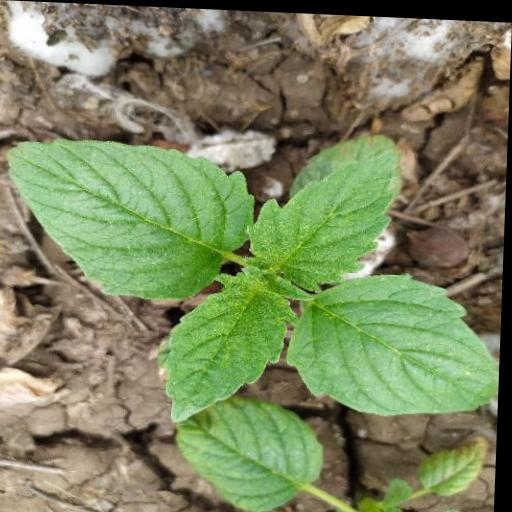crop: (0, 115, 508, 433)
